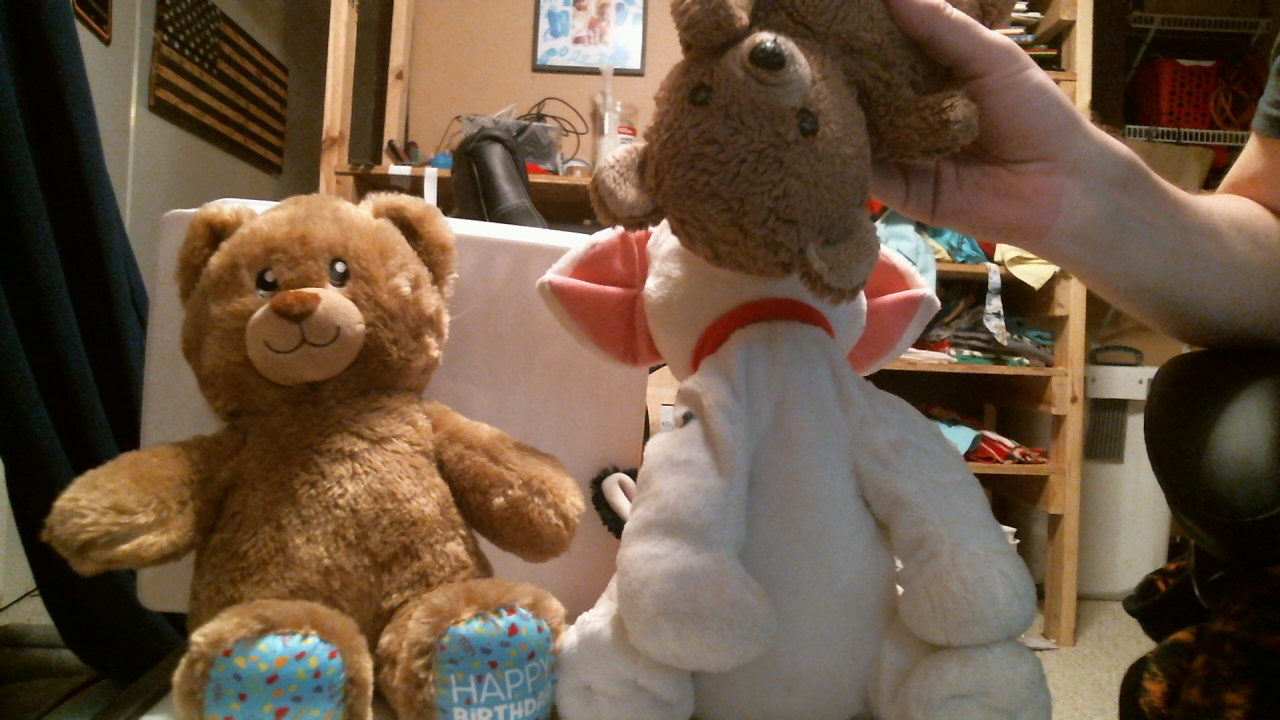Little_Mister_Bear: (676, 31, 869, 153)
